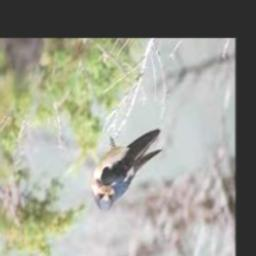Swallow: (92, 131, 163, 212)
